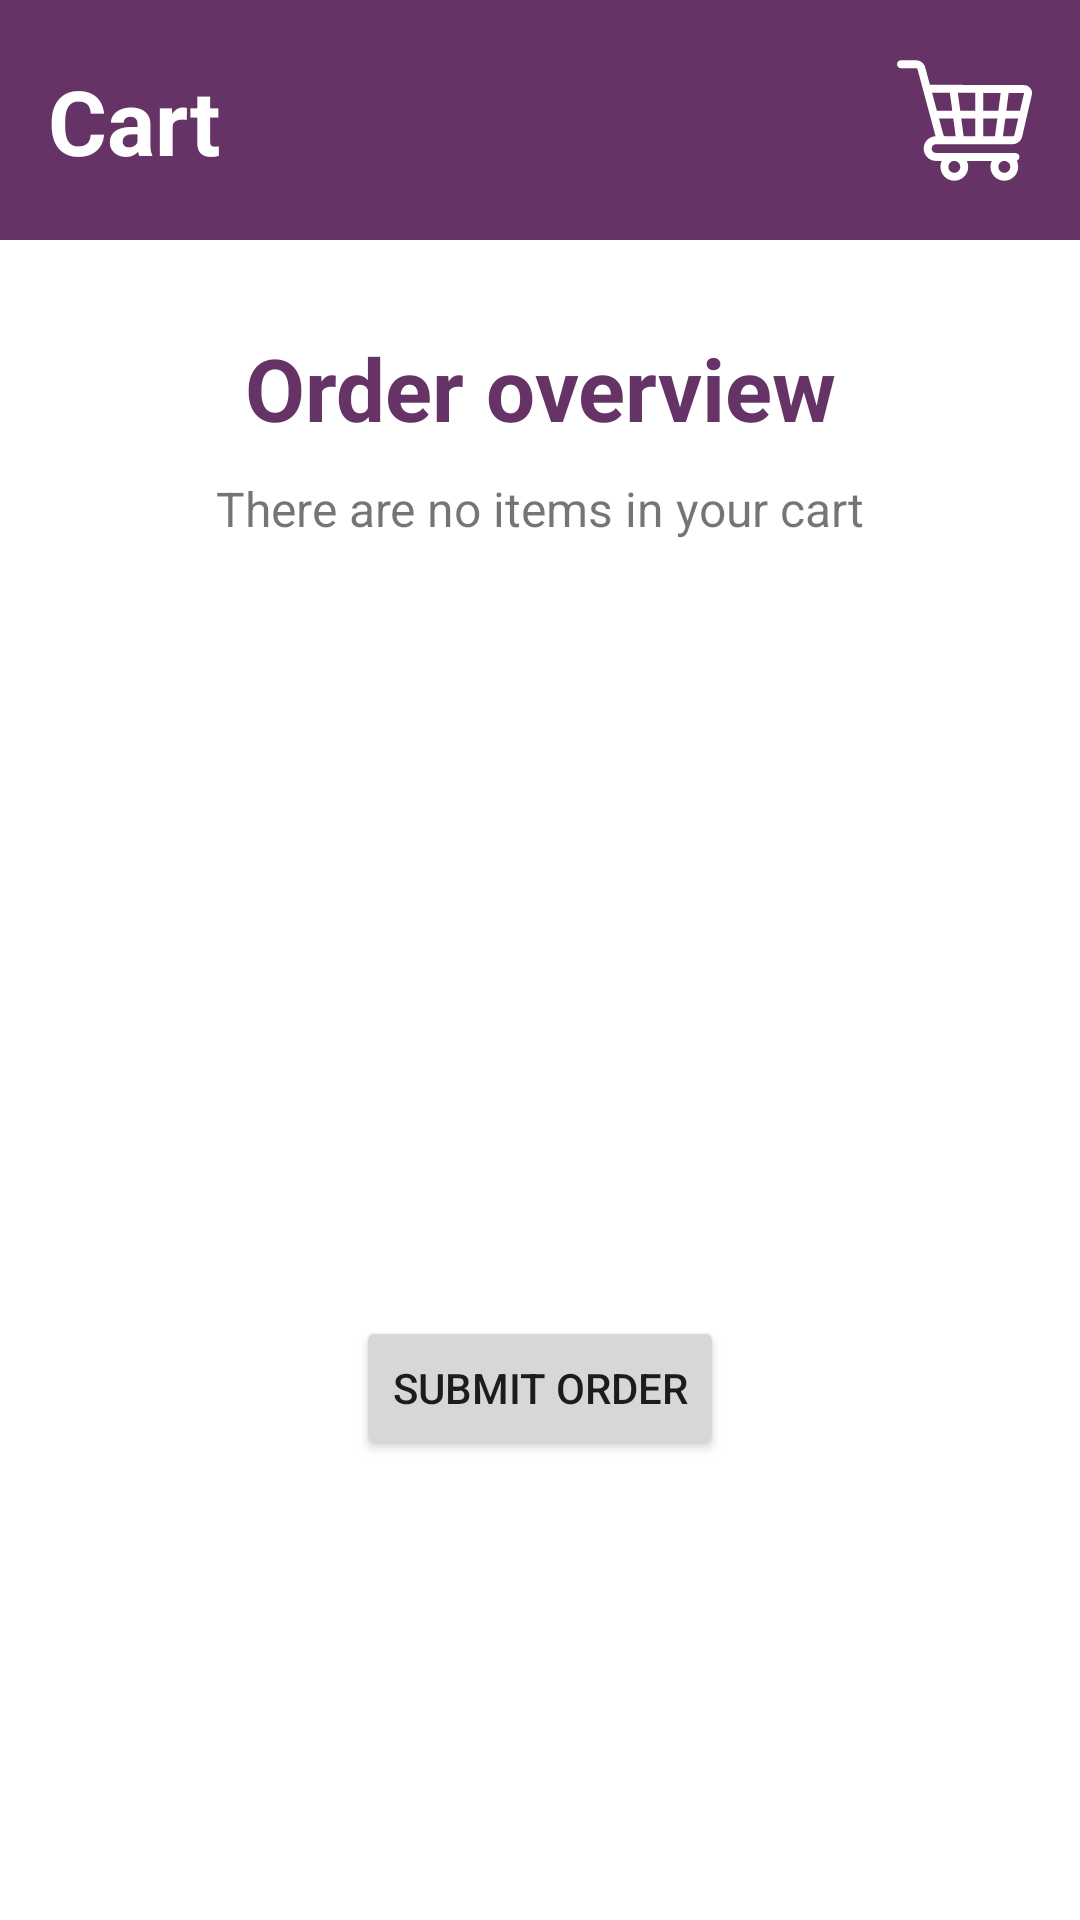

Where icons sit on this 1080w x 1920h app screen, as (x1, y1, x2, y2):
cart: (897, 60, 1032, 181)
